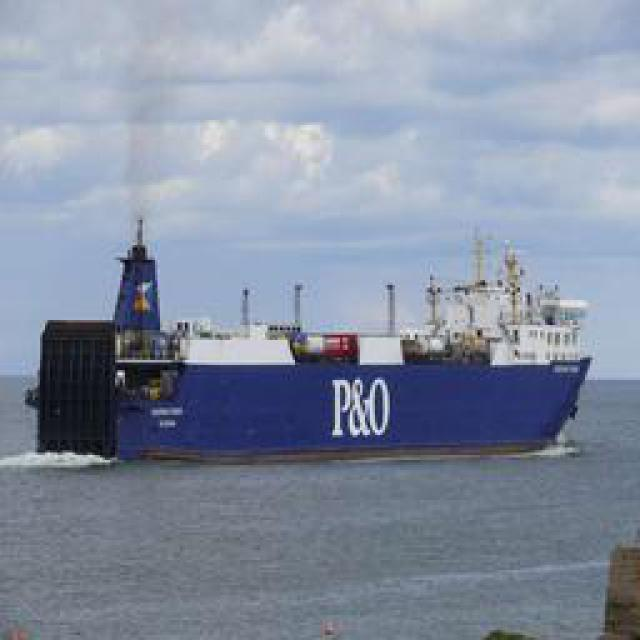Ship: (62, 238, 590, 456)
